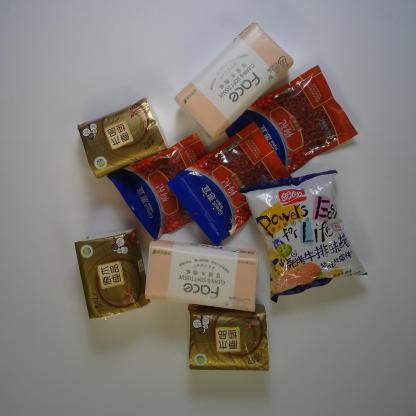Dried Fruit: (162, 121, 292, 248), (223, 62, 360, 175), (104, 132, 209, 242)
Puffed Food: (237, 168, 370, 304)
Tissue: (173, 21, 294, 141), (144, 240, 260, 315), (76, 96, 168, 181), (74, 227, 151, 321), (185, 303, 271, 373)
